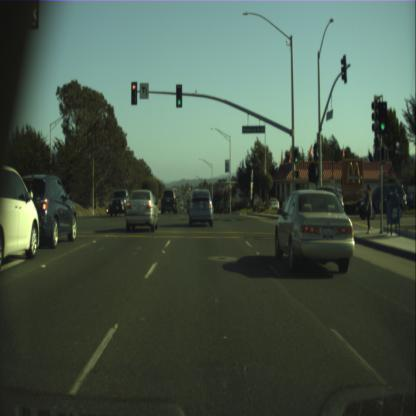Green: (378, 102, 387, 134), (175, 83, 182, 107), (293, 146, 298, 164)
RedLeft: (130, 81, 137, 105)
